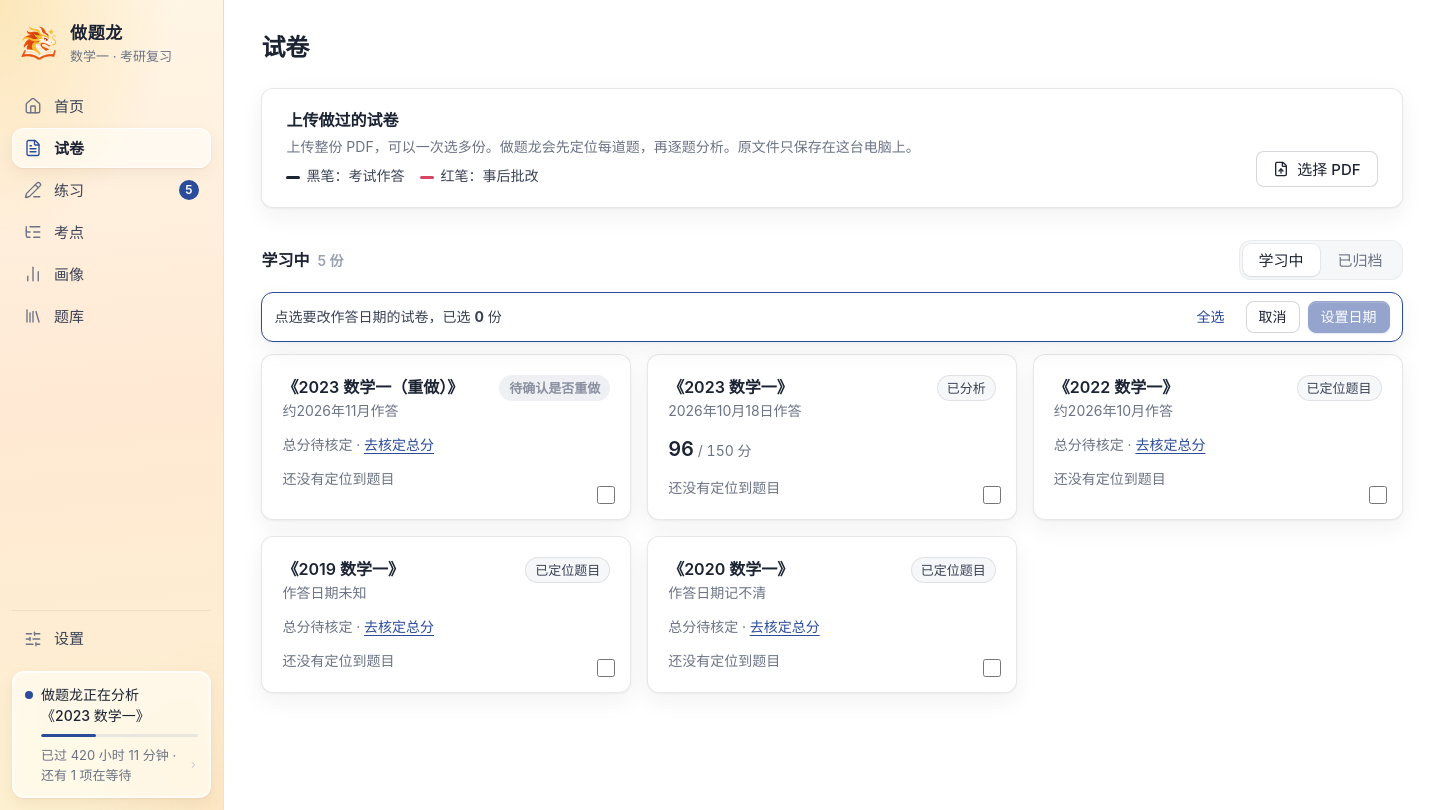
Scenario: changes the exam date of several papers at once
The width and height of the screenshot is (1440, 810).
Earlier steps of the test are not shown.
Step 1. Click the checkbox named "选择 《2019 数学一》" → (606, 668), box [597,659,615,677]
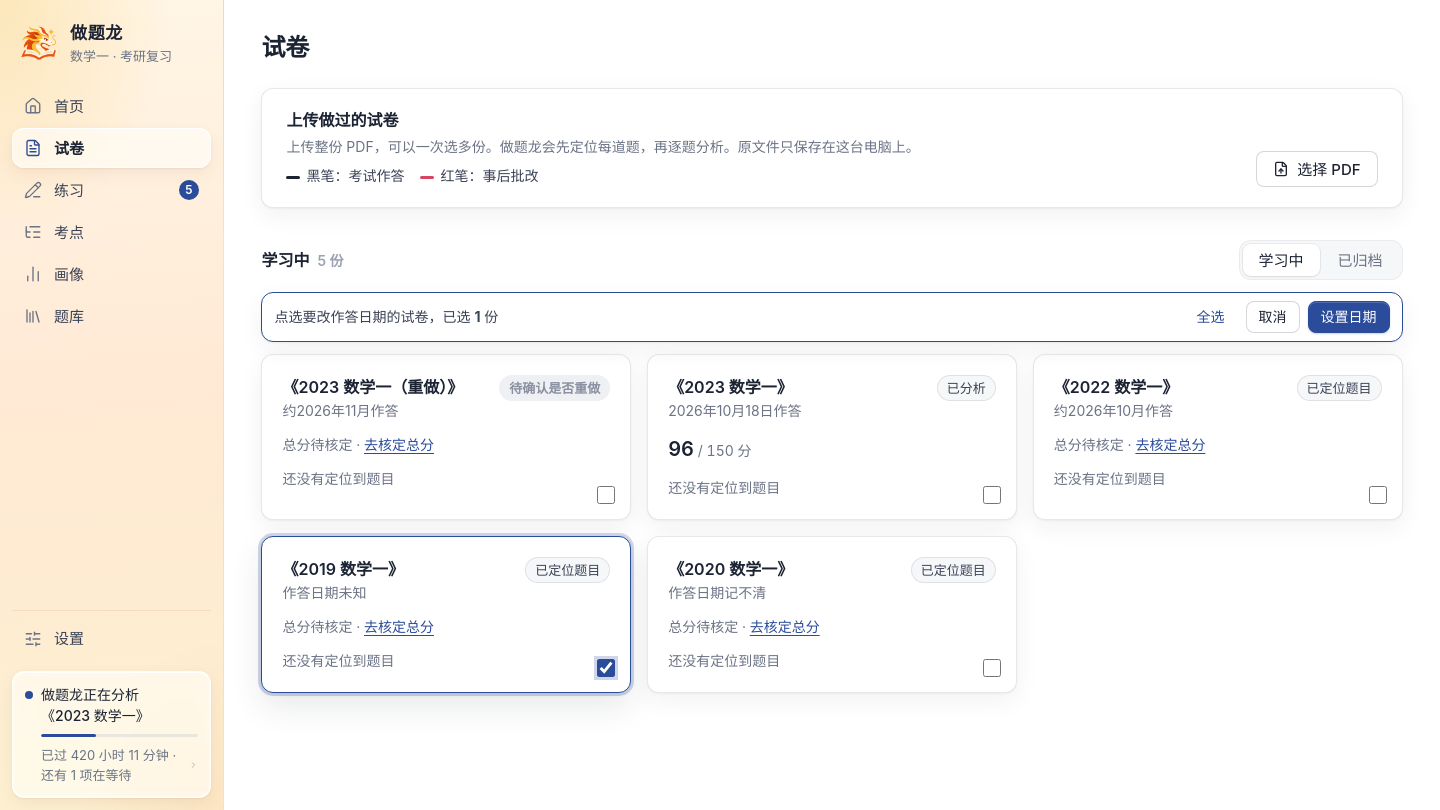
Step 2. Click the checkbox named "选择 《2020 数学一》" → (992, 668), box [983,659,1001,677]
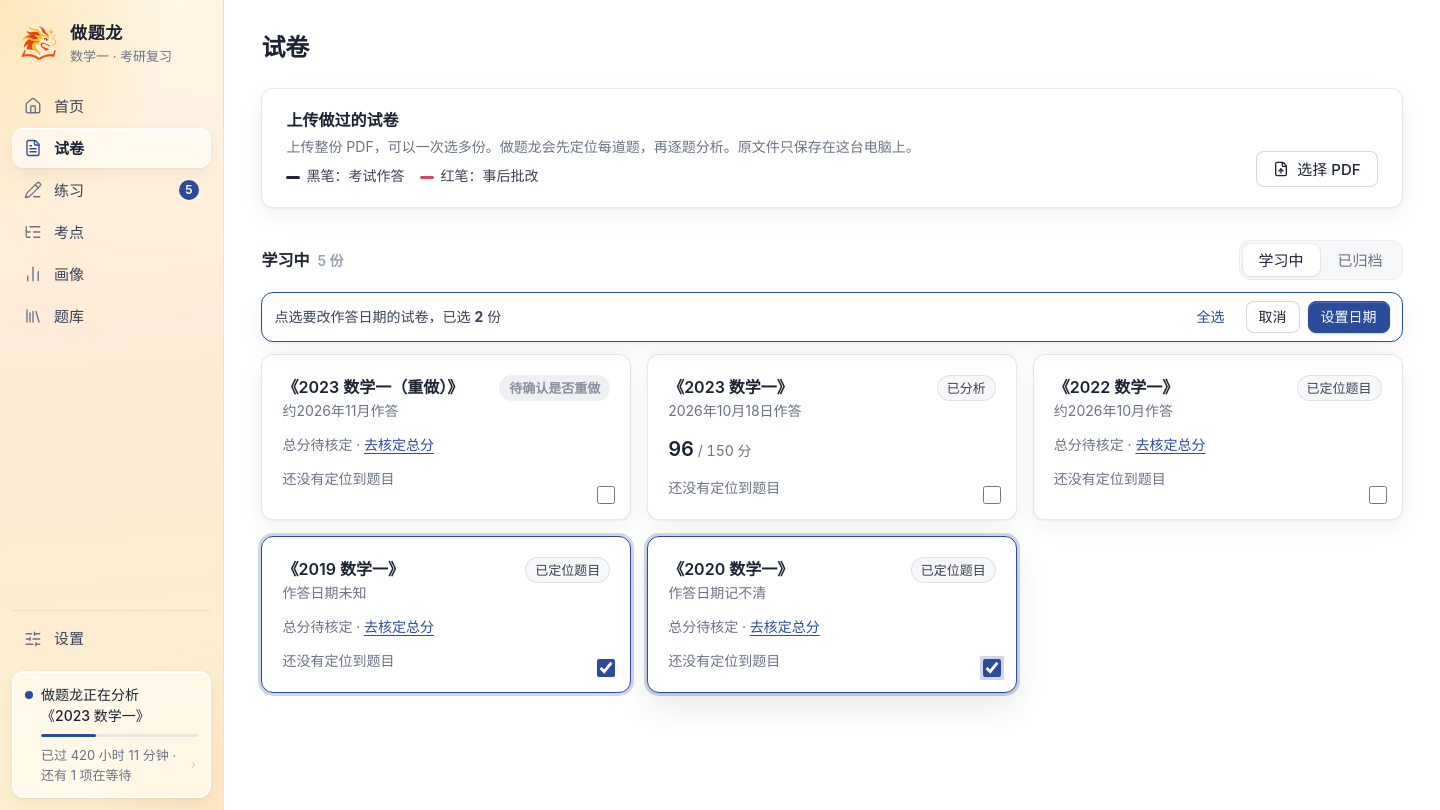
expect the element named "选择要改日期的试卷" shows "已选 2 份": met, box [261,292,1402,342]
Step 3. Click the button "设置日期" → (1349, 317), box [1308,301,1390,333]
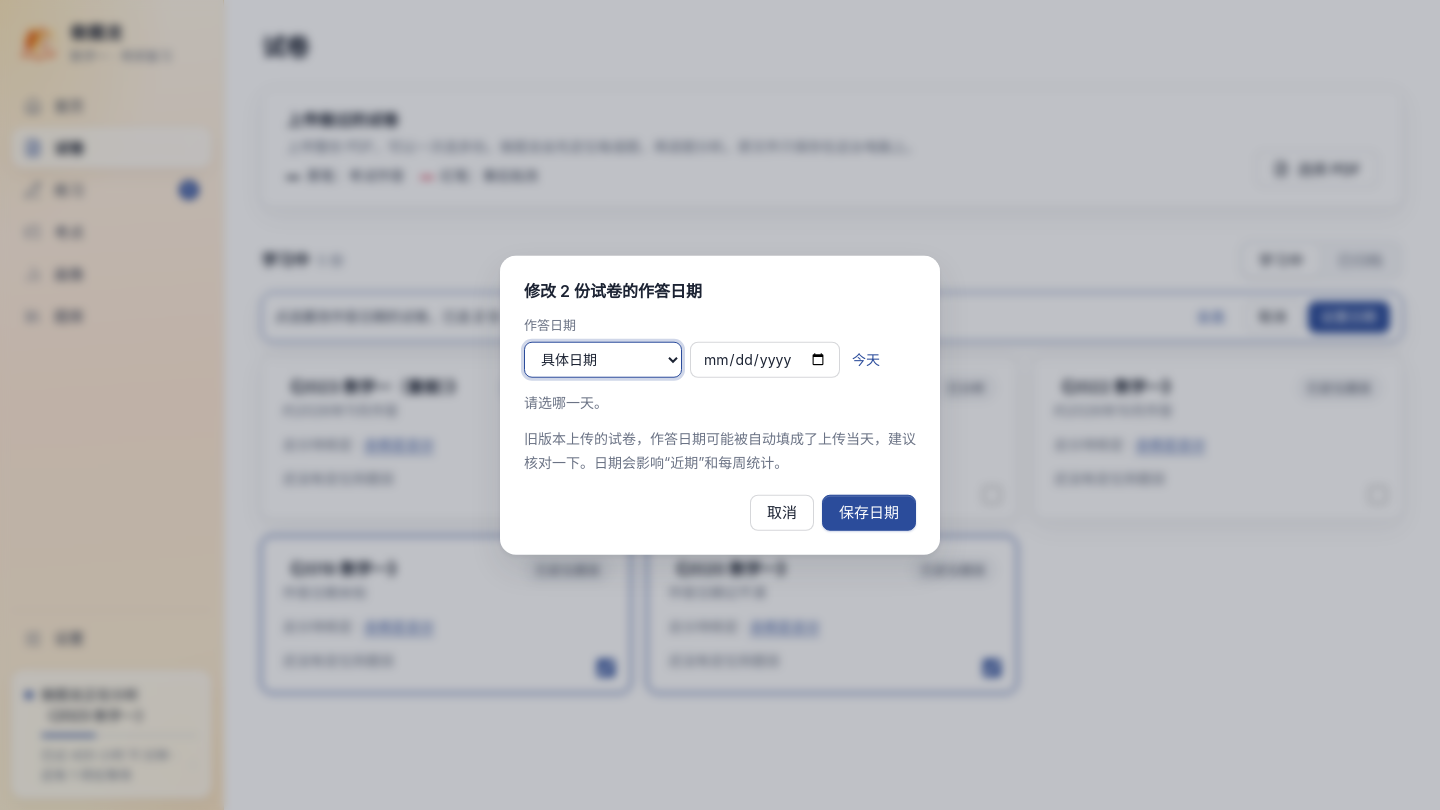
expect the dialog "修改 2 份试卷的作答日期" shows "可能被自动填成了上传当天": met, box [524,430,916,470]
Step 4. Select "约某月" in the dropdown → (603, 360), box [524,342,682,378]
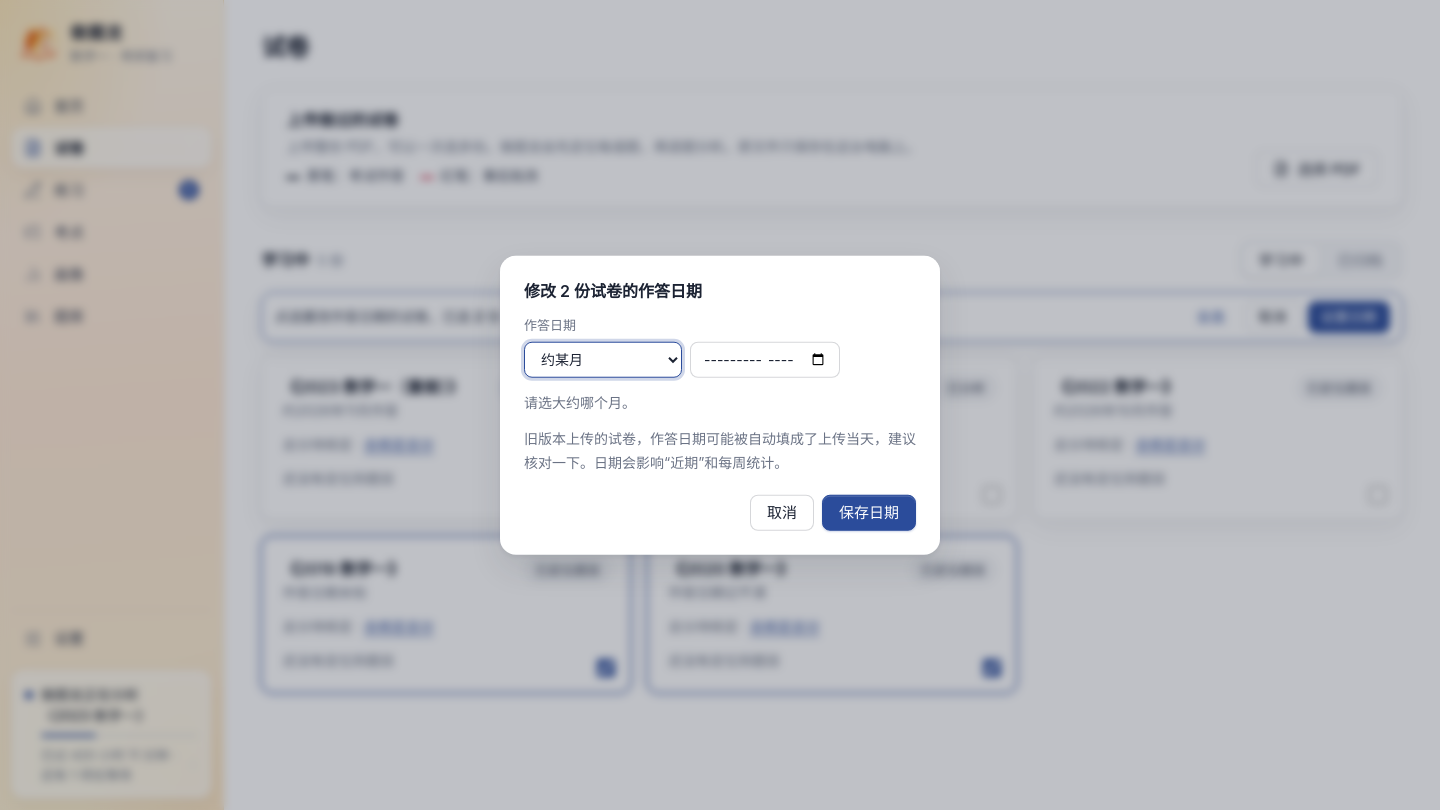
Step 5. Type "2025-12" into the field named "大约哪个月" → (765, 360), box [690,342,840,378]
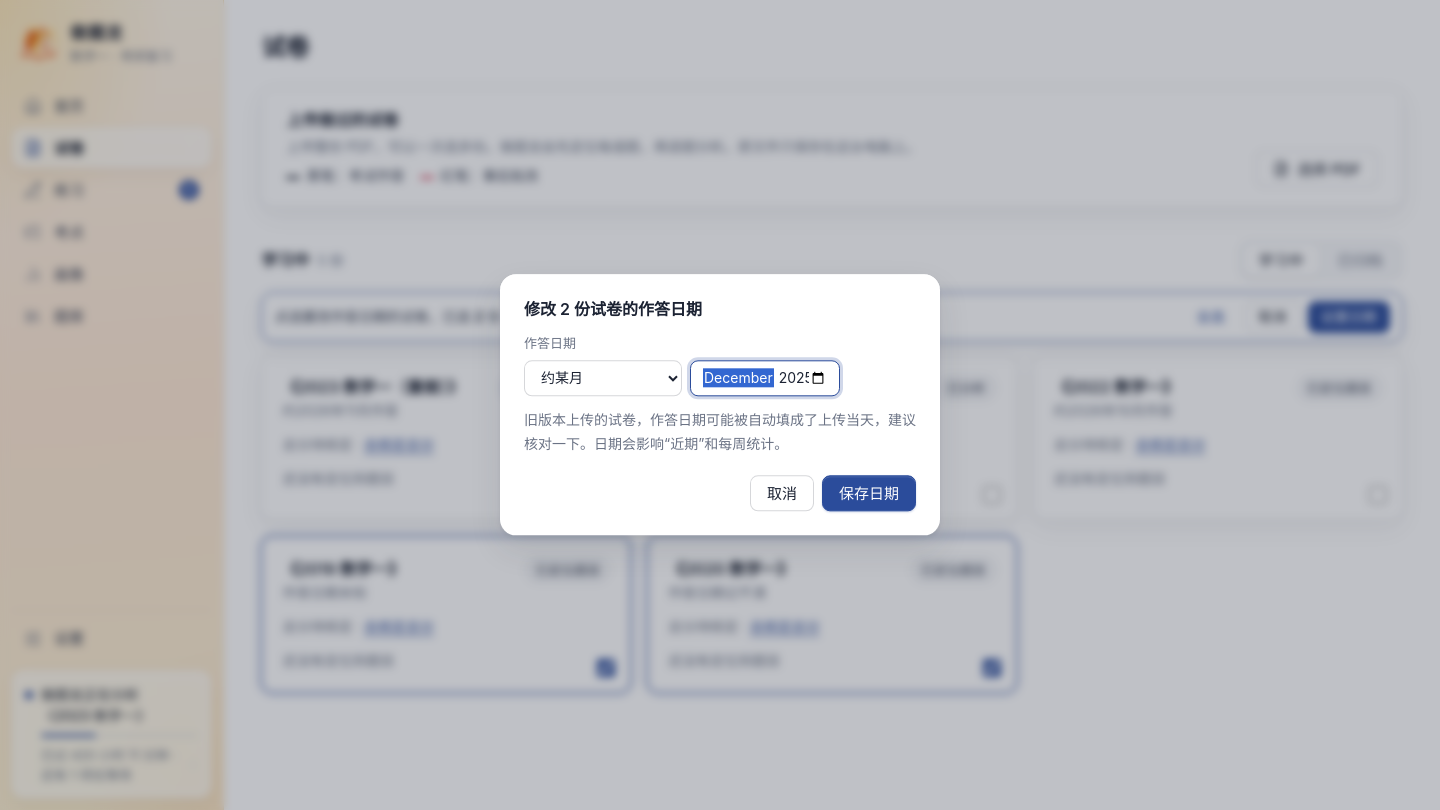
Step 6. Click the button "保存日期" → (869, 494), box [822,476,916,512]
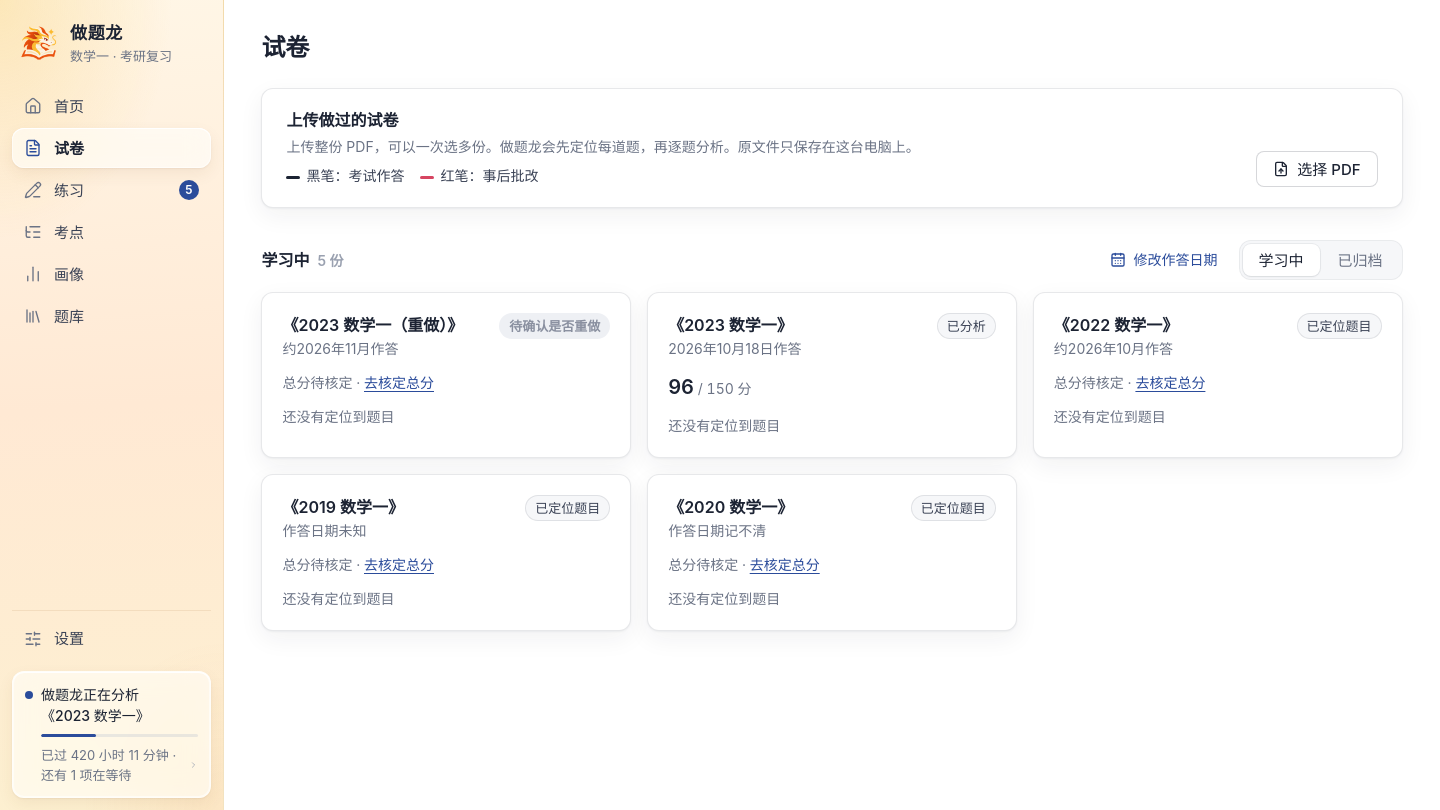
expect the dialog is gone: met
